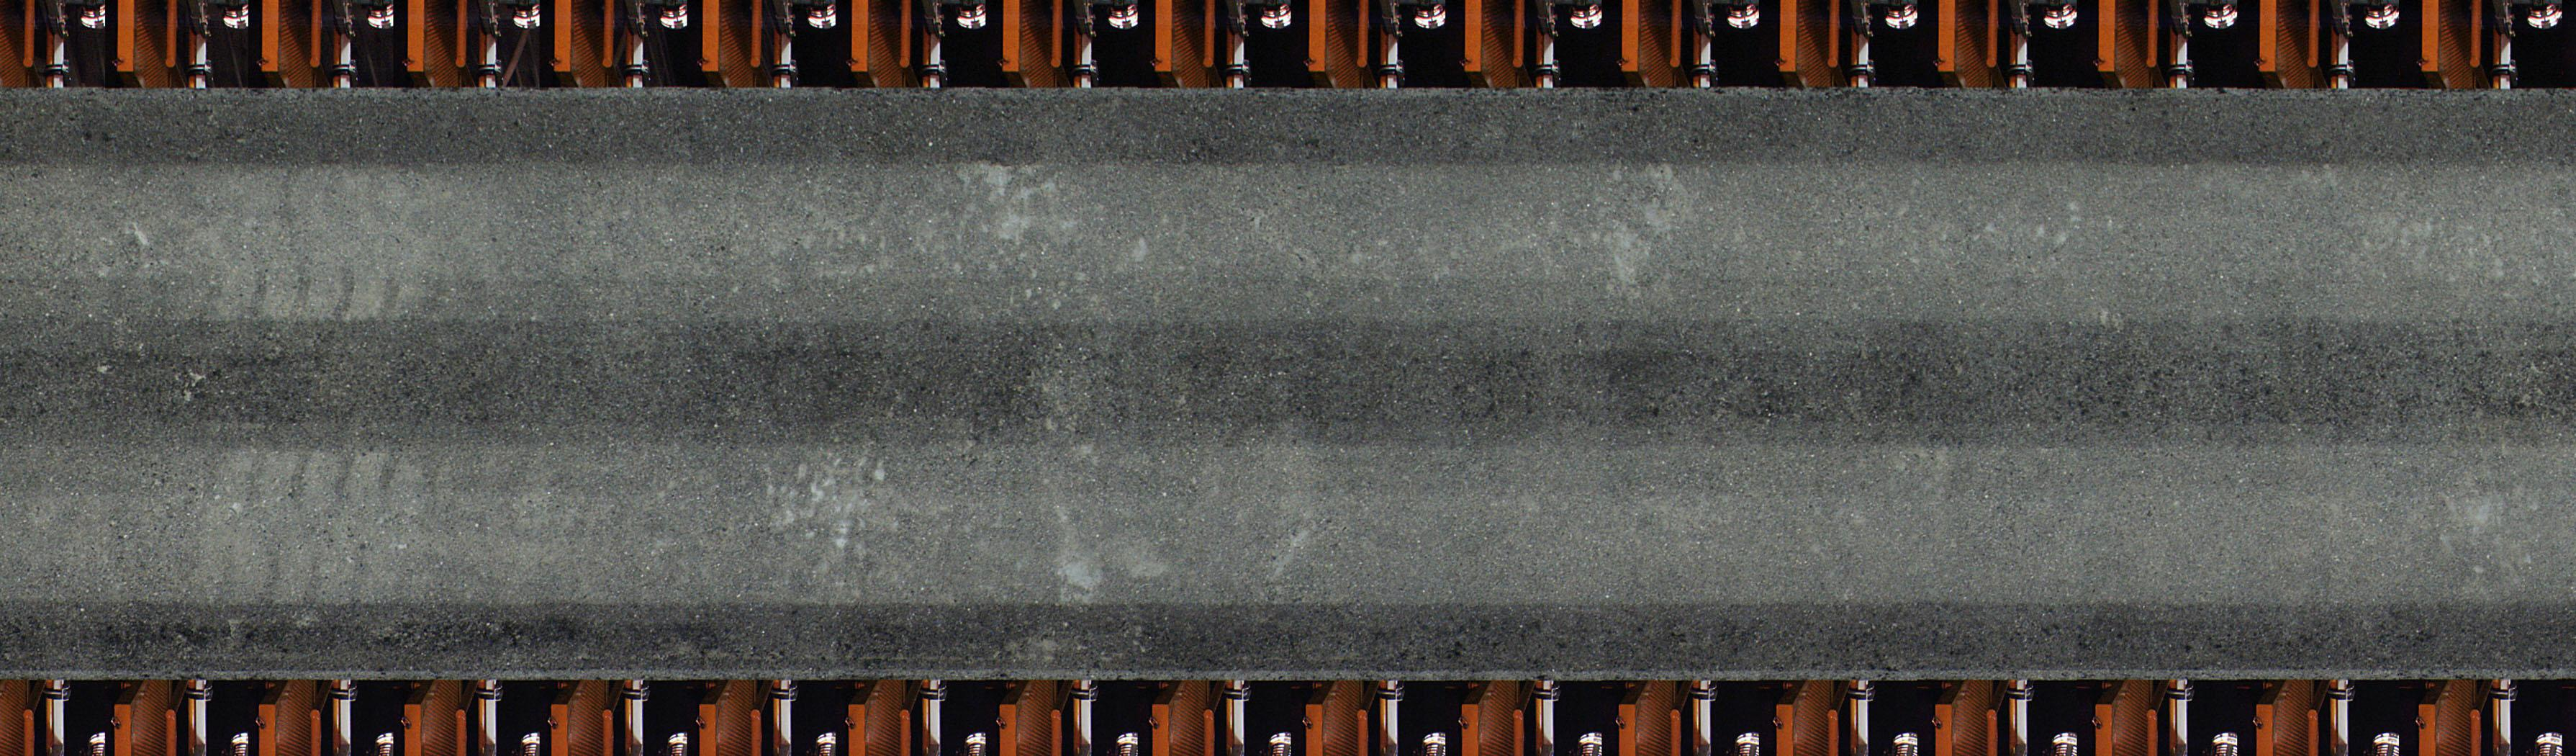concrete: (3, 89, 2566, 685)
